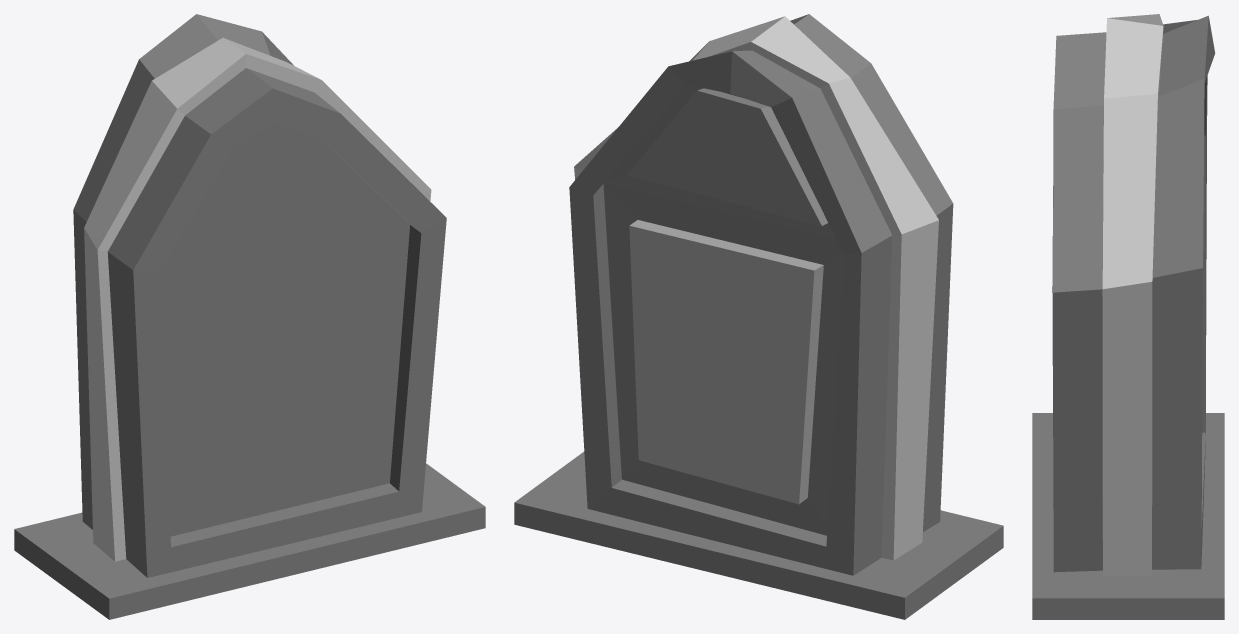
File: Grave_1.fbx
The picture shows the model from 3 angles, left to right: view 1: azimuth 30°, elevation 25°; view 2: azimuth 150°, elevation 25°; view 3: azimuth 270°, elevation 25°; orthographic projection. The views are drawn at different scales.
Parts seen in each view (by area): view 1: Grave_1; view 2: Grave_1; view 3: Grave_1.
Part boxes in pixels (<box>): Grave_1: <box>14,14,485,619</box>; Grave_1: <box>514,14,1003,619</box>; Grave_1: <box>1032,14,1224,619</box>.
Size of the model in its own units: 4.57 by 5.8 by 2.
